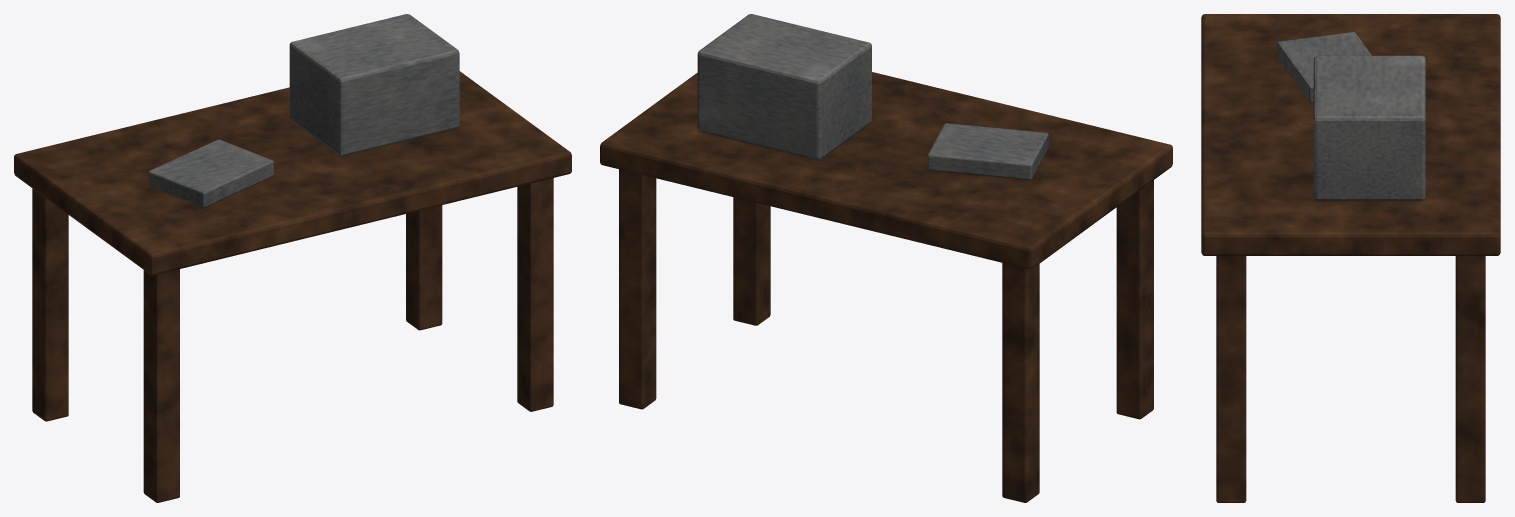
The model's file is room_table.glb.
3 renders of one model, left to right at view 1: azimuth 30°, elevation 25°; view 2: azimuth 150°, elevation 25°; view 3: azimuth 270°, elevation 25°, orthographic. The views are drawn at different scales.
Parts seen in each view (by area): view 1: room_table; view 2: room_table; view 3: room_table.
Part boxes in pixels (x1,y1,x2,y2): room_table: [14, 14, 571, 502]; room_table: [600, 14, 1172, 502]; room_table: [1201, 14, 1500, 502].
Bounding box in the file's own units: 1.4 × 1.07 × 0.8.
Materials: 2 (2 with a texture image).
